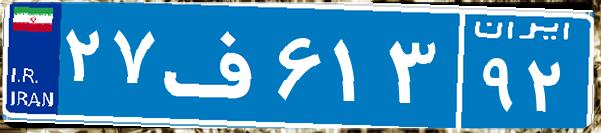1: (330, 28, 385, 110)
2: (57, 26, 110, 107), (525, 38, 570, 115)
3: (385, 28, 445, 110)
6: (273, 28, 330, 110)
7: (110, 28, 158, 105)
9: (475, 38, 525, 113)
ف: (158, 15, 273, 115)
